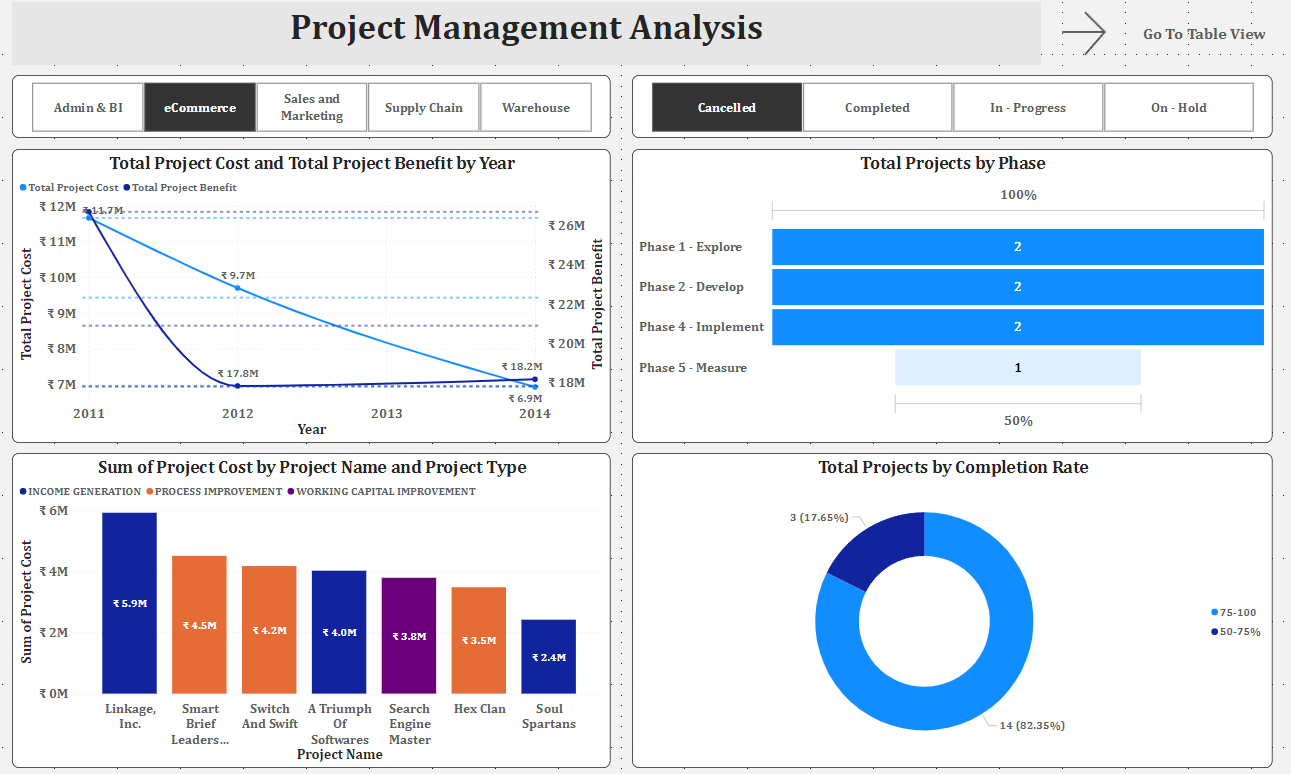

Layout of this report page (visuals, bound fields, positions):
{"tool":"powerbi","page":{"name":"Dashboard","canvas":[2000,1200],"ordinal":0},"visuals":[{"type":"lineChart","fields":{"Category":["Project.Year"],"Y":["Sum(Project.Project Cost)"],"Y2":["Sum(Project.Project Benefit)"]},"box":[32,240,912,448],"z":0},{"type":"slicer","fields":{"Values":["Departments.Department"]},"box":[32,128,912,96],"z":1000},{"type":"funnel","fields":{"Category":["Project.Phase"],"Y":["Count(Project.Project Name)"]},"box":[976,240,976,448],"z":2000},{"type":"columnChart","fields":{"Y":["Sum(Project.Project Cost)"],"Category":["Project.Project Name"],"Series":["Project Type.Project Type"]},"box":[32,704,912,480],"z":3000},{"type":"slicer","fields":{"Values":["Project.Status"]},"box":[976,128,976,96],"z":4000},{"type":"donutChart","fields":{"Category":["Project.Completion Rate"],"Y":["CountNonNull(Project.Project Name)"]},"box":[976,704,976,480],"z":5000},{"type":"textbox","box":[32,16,1568,96],"z":6000},{"type":"actionButton","box":[1616,16,336,96],"z":7000}]}

Visuals, with their boxes in screenshot pixels (x1, y1, x2, y2), scaled from the page's 2000x1200 canvas onto the 1291x774 screenshot:
lineChart - Project.Year x Sum(Project.Project Cost): 21,155,609,444
slicer - Departments.Department: 21,83,609,144
funnel - Project.Phase x Count(Project.Project Name): 630,155,1260,444
columnChart - Sum(Project.Project Cost) x Project.Project Name: 21,454,609,764
slicer - Project.Status: 630,83,1260,144
donutChart - Project.Completion Rate x CountNonNull(Project.Project Name): 630,454,1260,764
textbox: 21,10,1033,72
actionButton: 1043,10,1260,72
